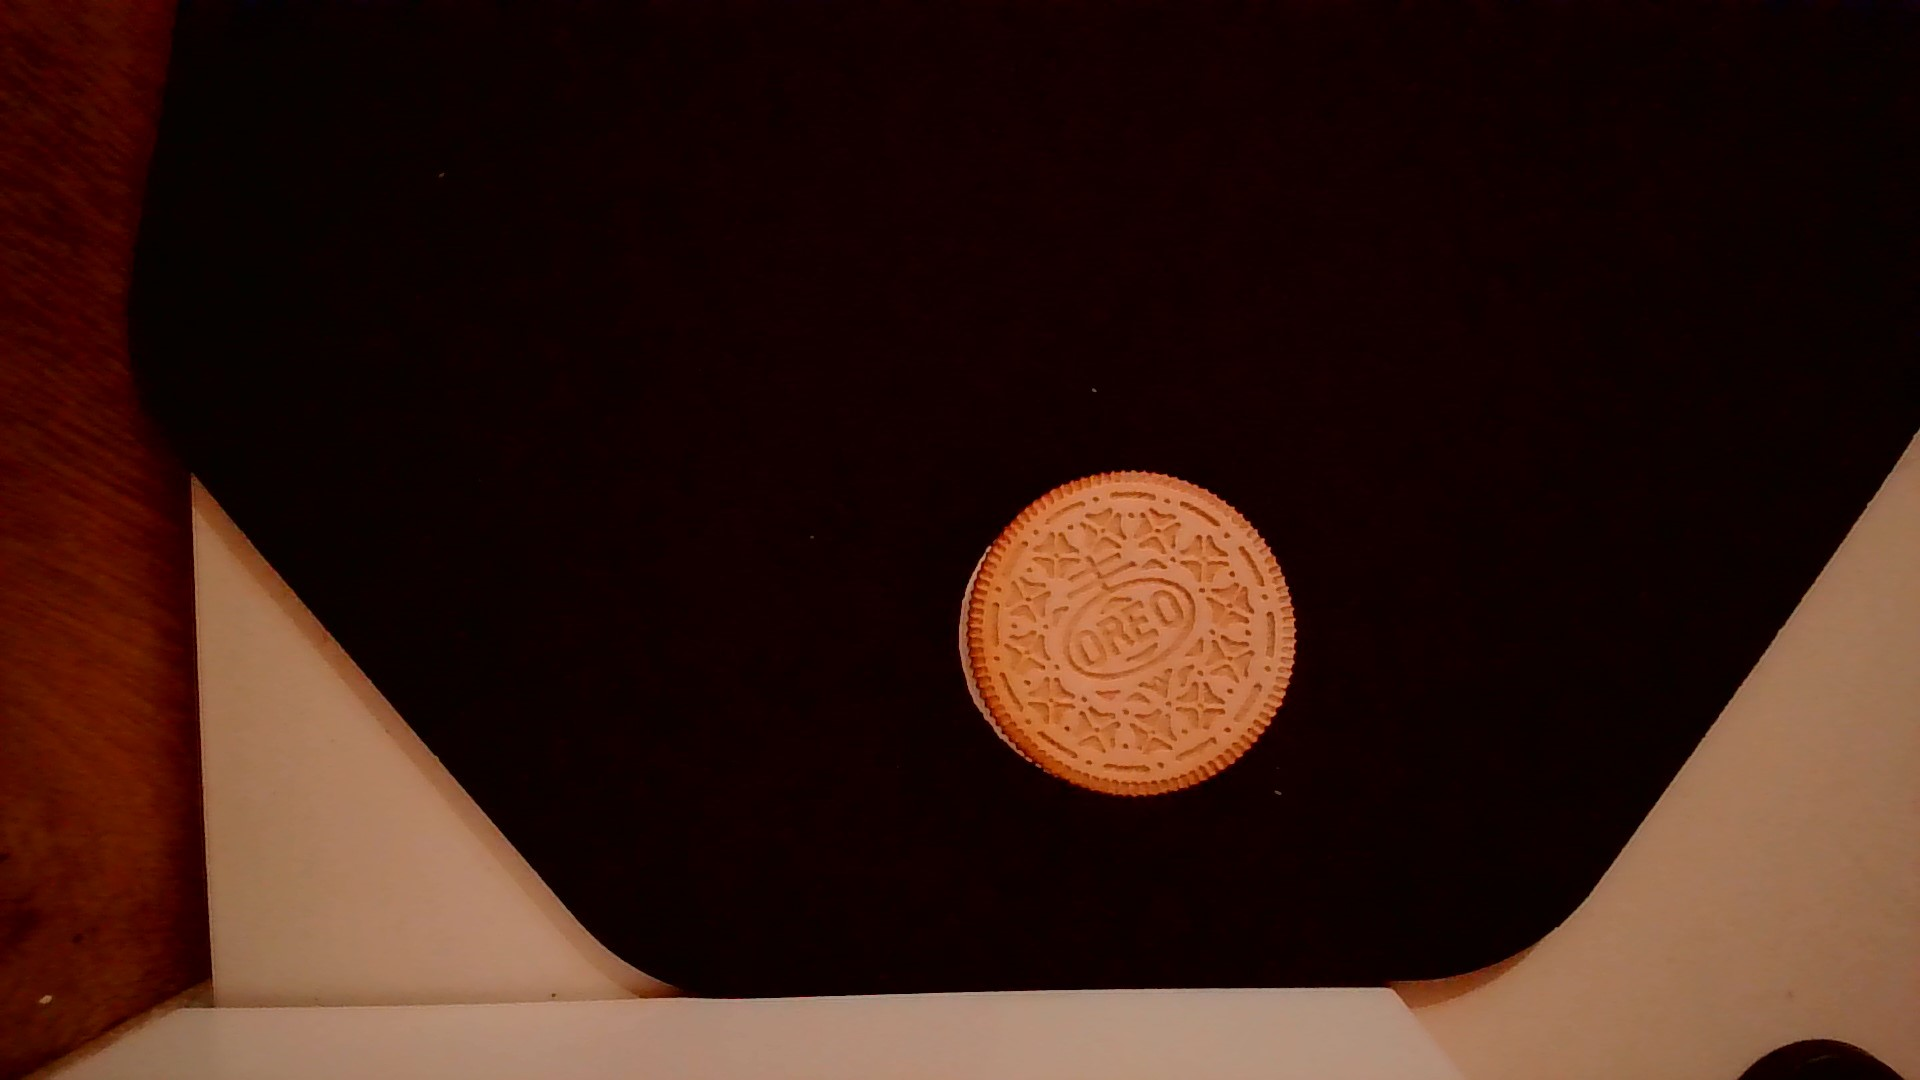Décalé: (942, 538, 1038, 765)
Oréo: (949, 465, 1304, 804)
